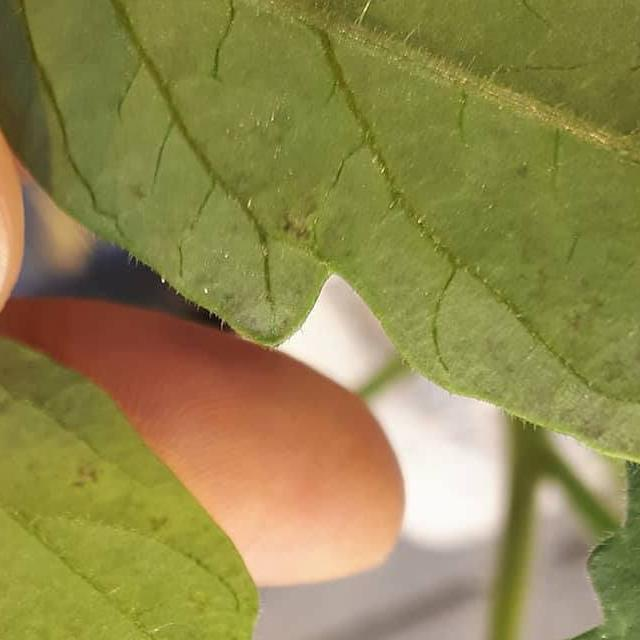Tomato mold leaf: (0, 243, 351, 640)
